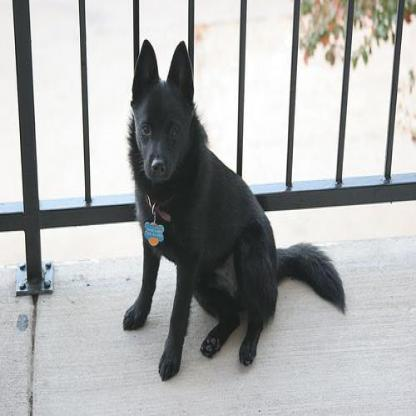schipperke: (121, 35, 345, 385)
